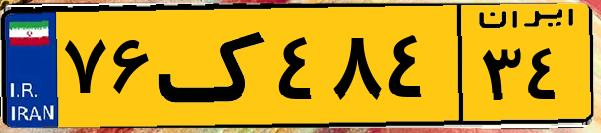3: (475, 38, 525, 113)
4: (270, 28, 330, 110), (385, 28, 445, 110), (525, 38, 570, 115)
6: (110, 28, 158, 98)
7: (57, 26, 110, 100)
8: (330, 28, 385, 110)
ک: (158, 12, 270, 120)
